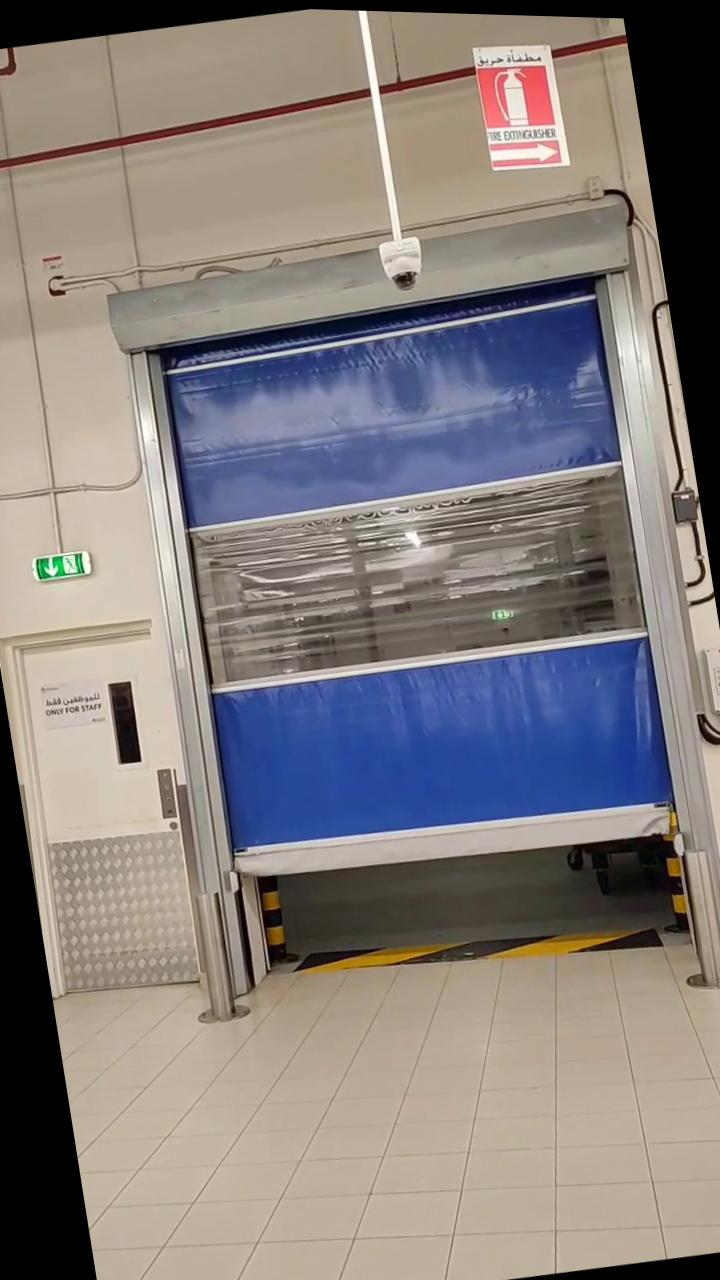Strip: (300, 891, 668, 1002)
